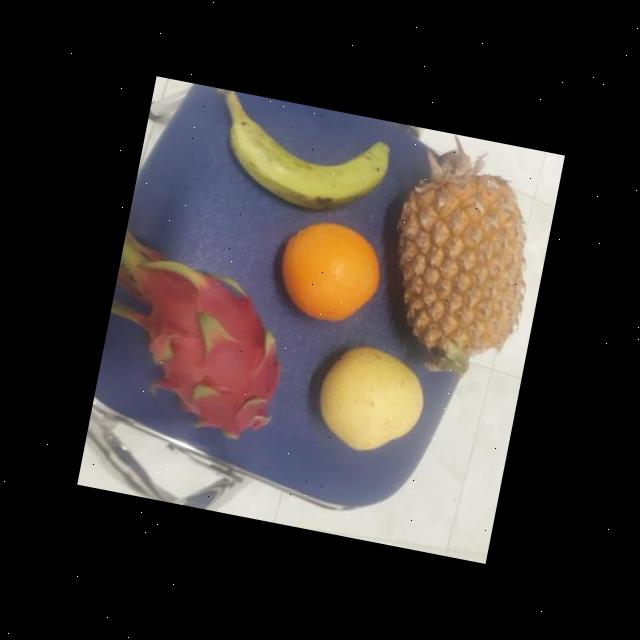banana: (212, 101, 393, 222)
guava: (308, 340, 428, 463), (270, 214, 388, 332)
pineapple: (372, 156, 542, 374)
pitaya: (107, 245, 300, 452)
